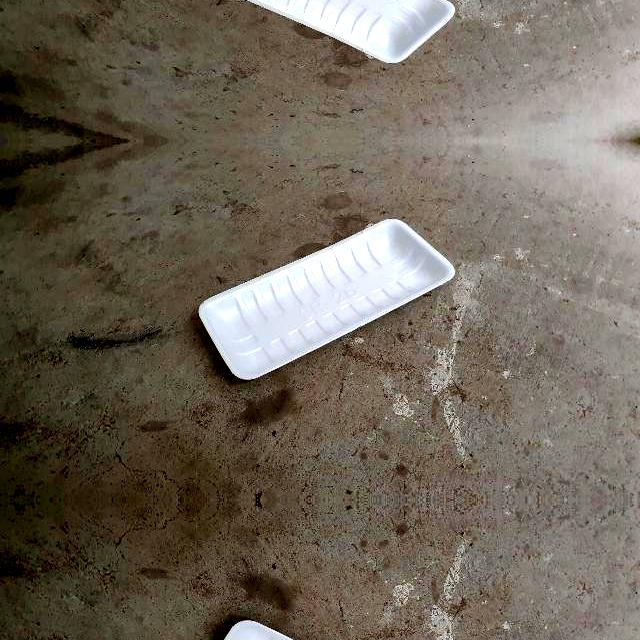Styrofoam: (198, 218, 456, 382), (199, 218, 455, 379), (198, 0, 455, 62), (249, 0, 455, 62)
